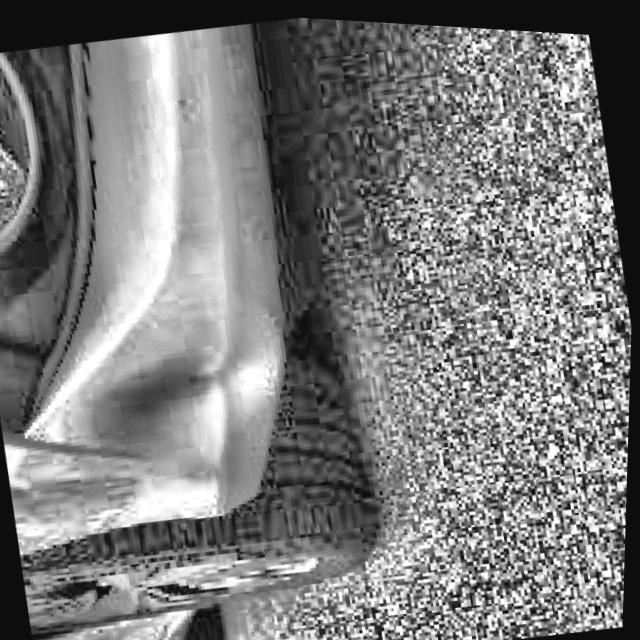bumper_dent: (133, 343, 291, 438)
